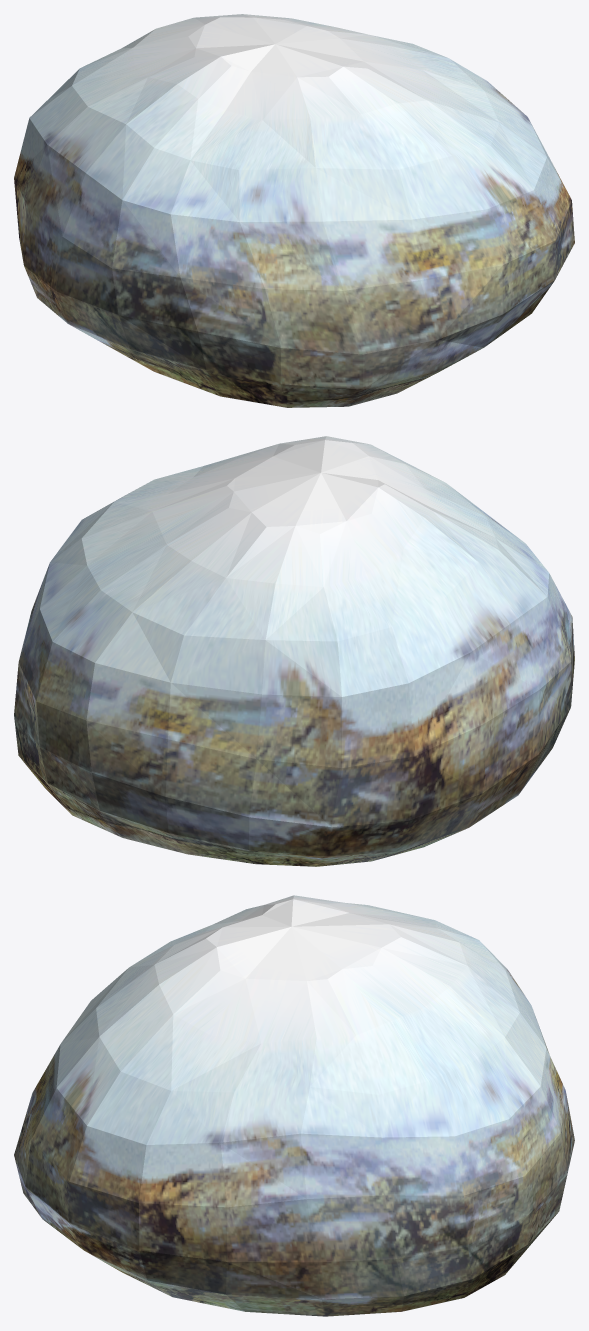
The model's file is Snow Rock.obj.
The picture shows the model from 3 angles, top to bottom: view 1: azimuth 30°, elevation 25°; view 2: azimuth 150°, elevation 25°; view 3: azimuth 270°, elevation 25°; orthographic projection. The views are drawn at different scales.
Visible parts, largest first — view 1: MODELS_bin_035:poly000; view 2: MODELS_bin_035:poly000; view 3: MODELS_bin_035:poly000.
Boxes of the visible parts, x1,y1,x2,y2 form: MODELS_bin_035:poly000: (14,14,574,407); MODELS_bin_035:poly000: (14,436,574,866); MODELS_bin_035:poly000: (14,895,574,1316).
Size of the model in its own units: 11.28 by 6.47 by 11.58.
1 material, 1 textured.
